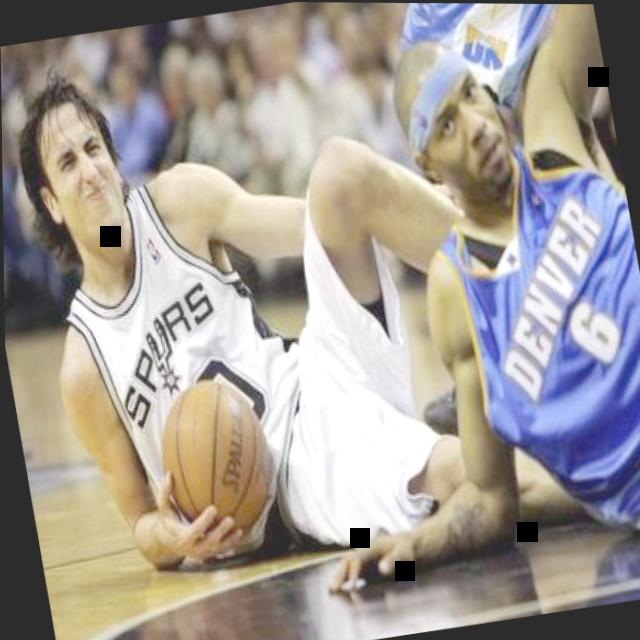Fall-Detected: (354, 2, 640, 570)
